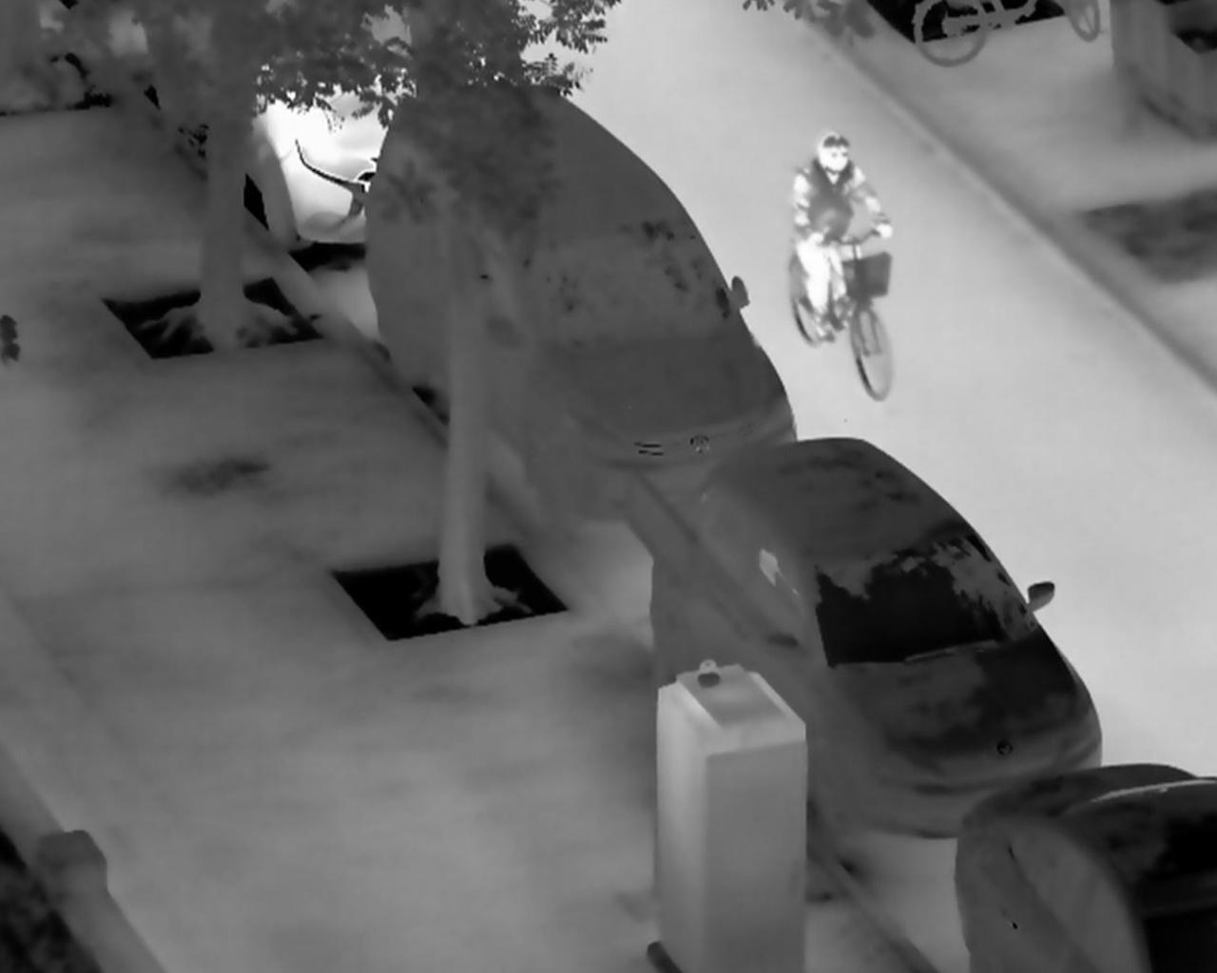person: (790, 130, 894, 344)
